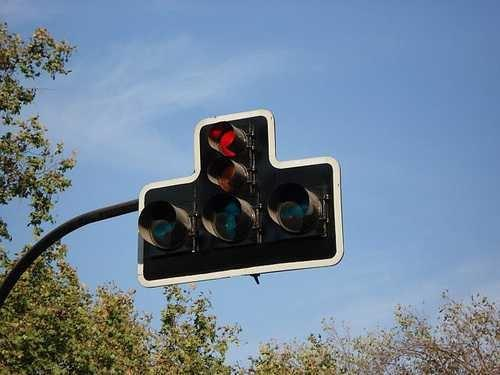red: (136, 102, 348, 285), (193, 113, 266, 256), (197, 118, 258, 158)
